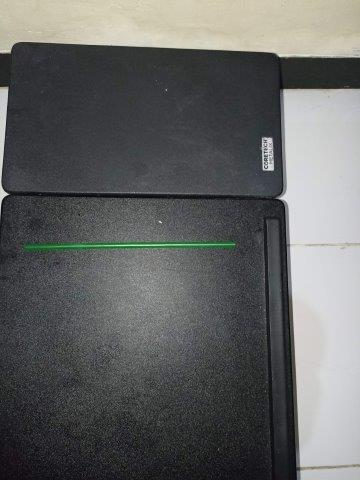sedotan: (22, 243, 235, 250)
